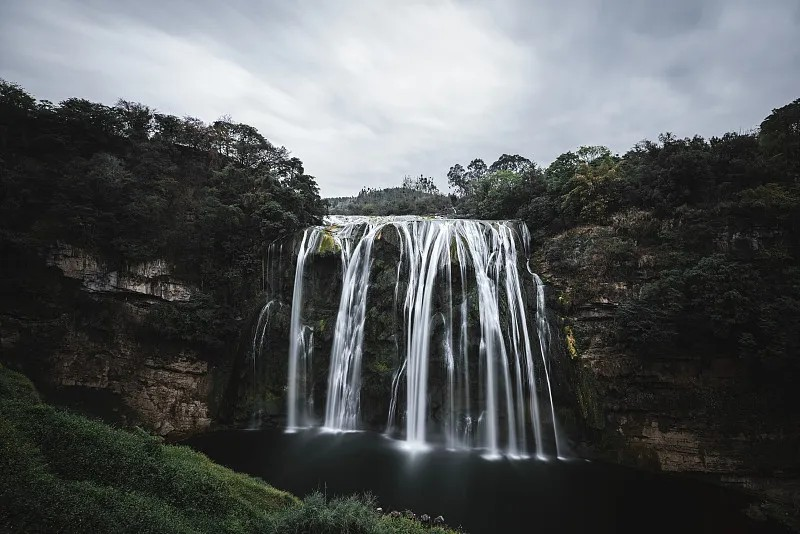Huangguoshu: (286, 215, 566, 460)
